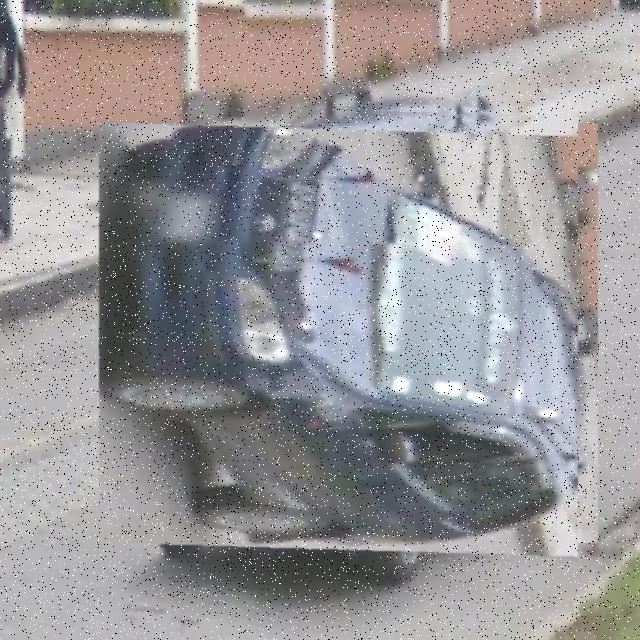car: (119, 104, 579, 564)
